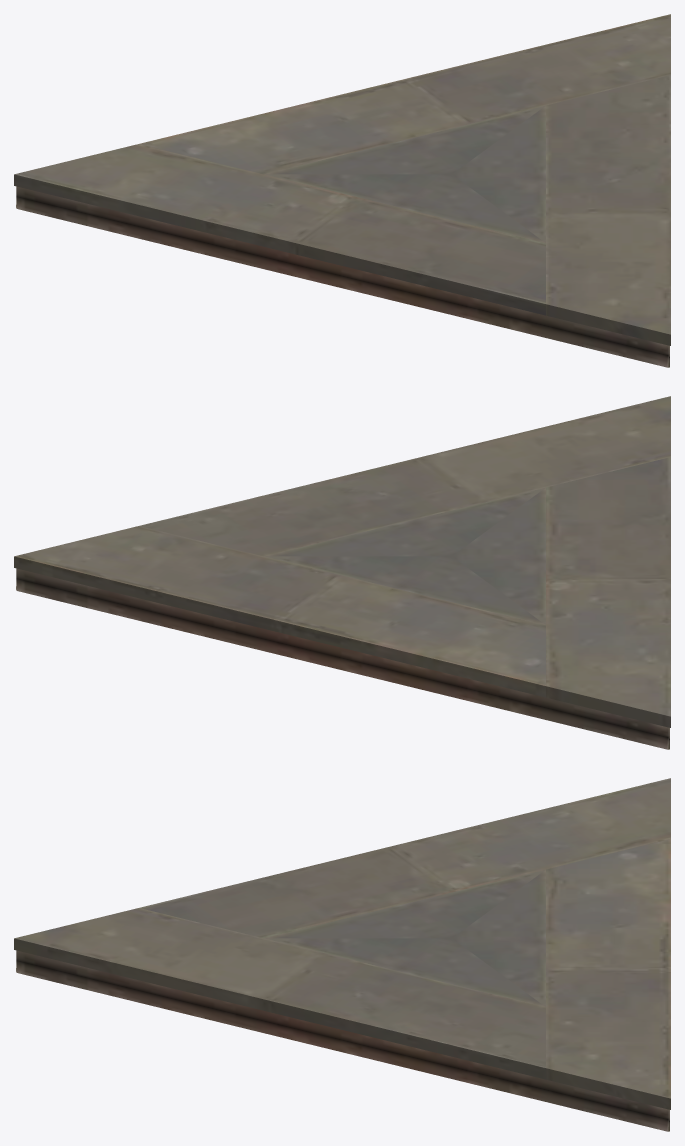
Rendered from floor.triangle.brick.glb.
The picture shows the model from 3 angles, top to bottom: view 1: azimuth 30°, elevation 25°; view 2: azimuth 150°, elevation 25°; view 3: azimuth 270°, elevation 25°; orthographic projection.
Visible parts, largest first — view 1: model; view 2: model; view 3: model.
Boxes of the visible parts, <box> form: model: <box>14,14,670,367</box>; model: <box>14,396,670,749</box>; model: <box>14,778,670,1131</box>.
Bounding box in the file's own units: 3 × 0.1498 × 2.6.
Materials: 1 (1 with a texture image).
